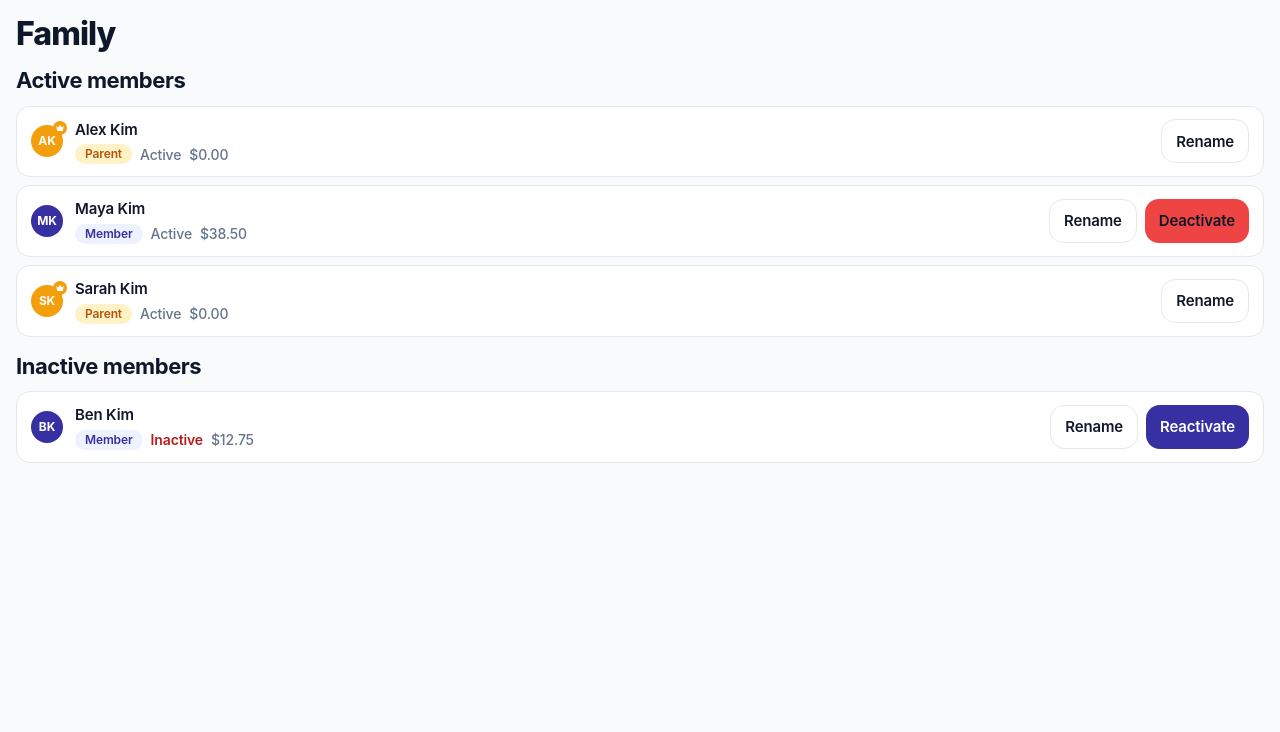
Scenario: FamilyManagementScreen — F10: deactivate confirm sheet closes on rejection + toast + re-enable › a rejected REACTIVATE (no sheet to close): during pending the button is busy; after rejection the busy signal LIFTS and the toast appears
Click the button "Reactivate" at point(1198, 427), box [1146,405,1249,449]
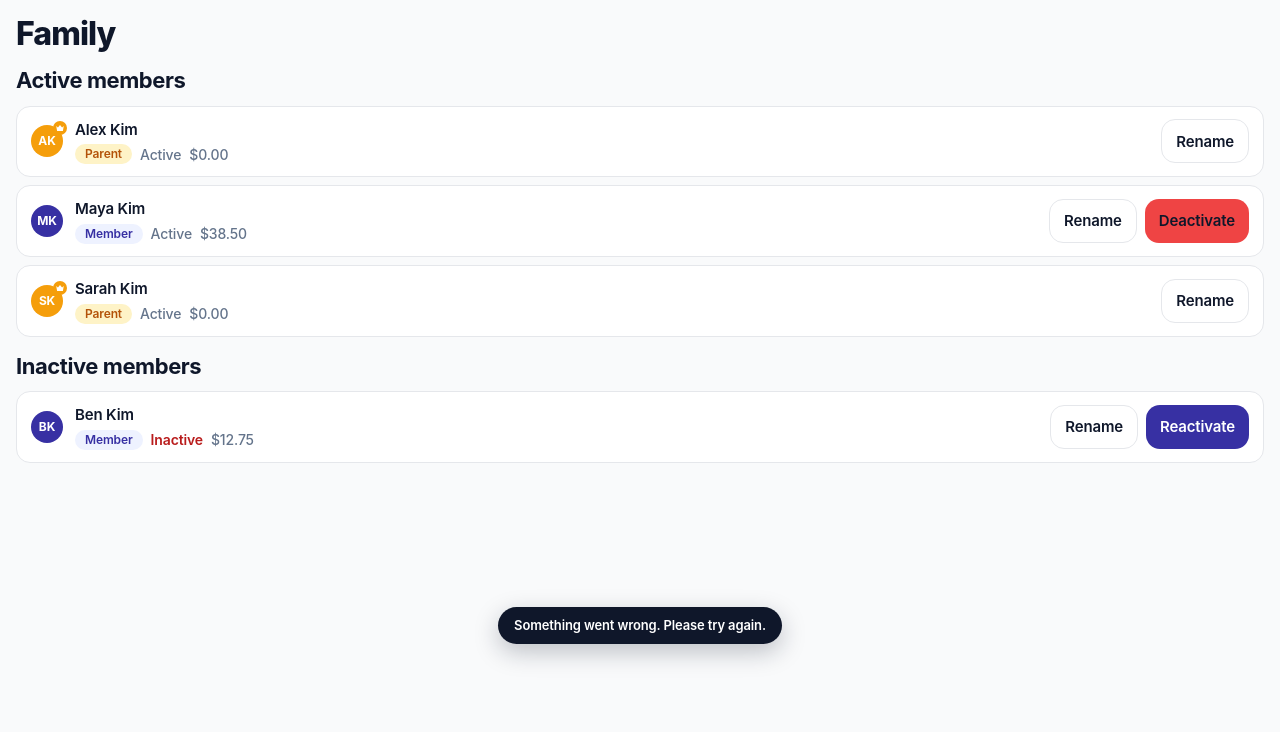
Now the text "Something went wrong. Please try again." is shown, box [498,607,782,644]
